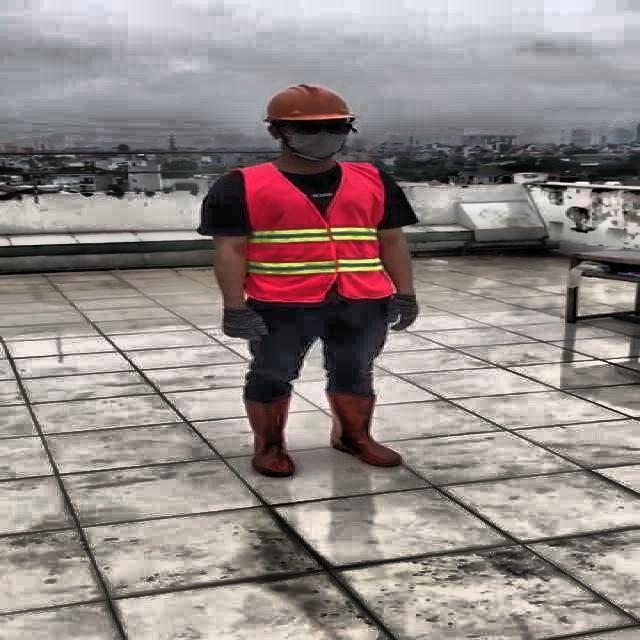safety_helmet: (255, 81, 358, 123)
safety_jacket: (238, 163, 400, 303)
